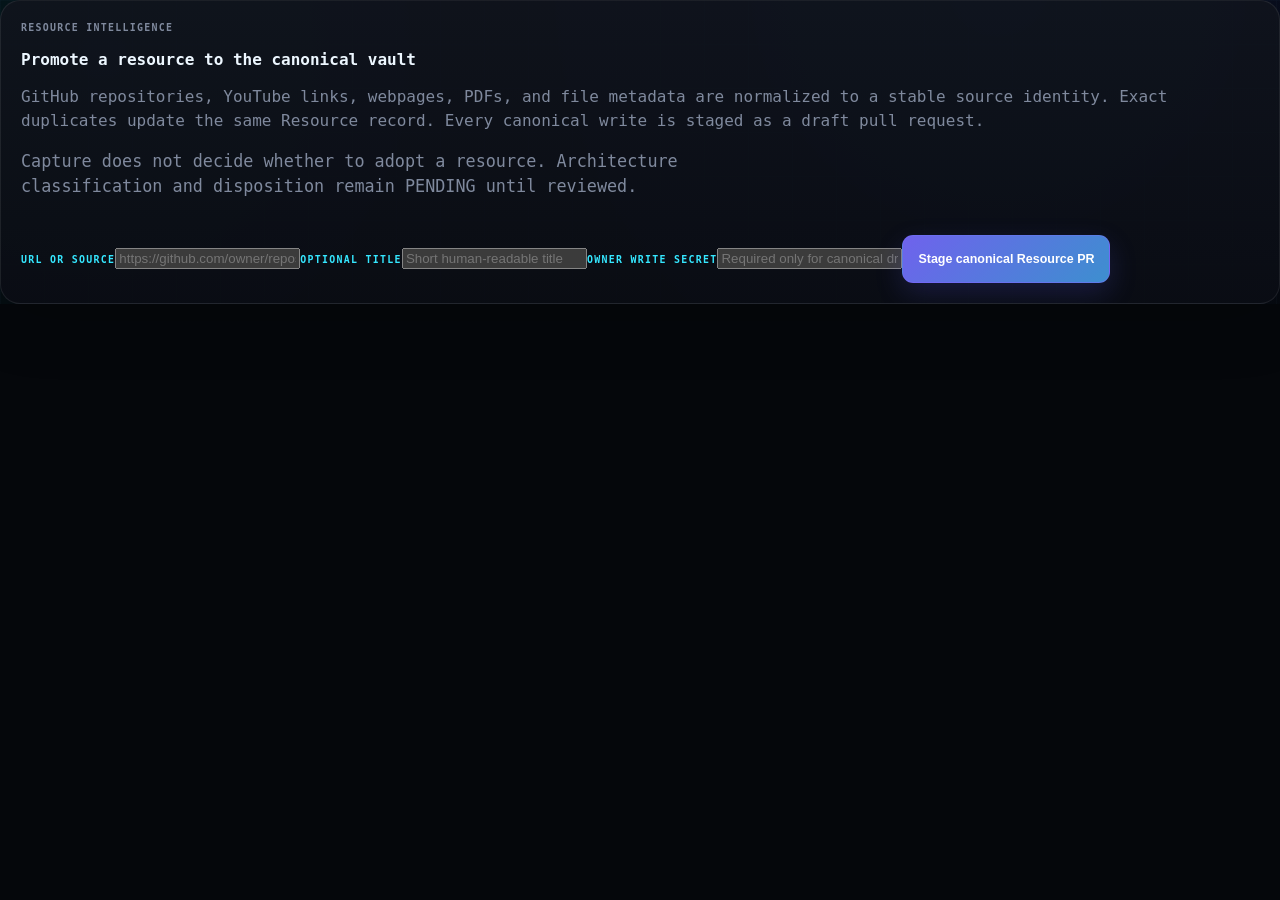
it: Resource intake panel › reports a reused open draft PR, source evidence status, and processor route
The width and height of the screenshot is (1280, 900).
Type "https://github.com/vercel-labs/knowledge-agent-template" into the field named "Resource URL or source" at x=208, y=259, box top-left (115, 248), bottom-right (300, 269)
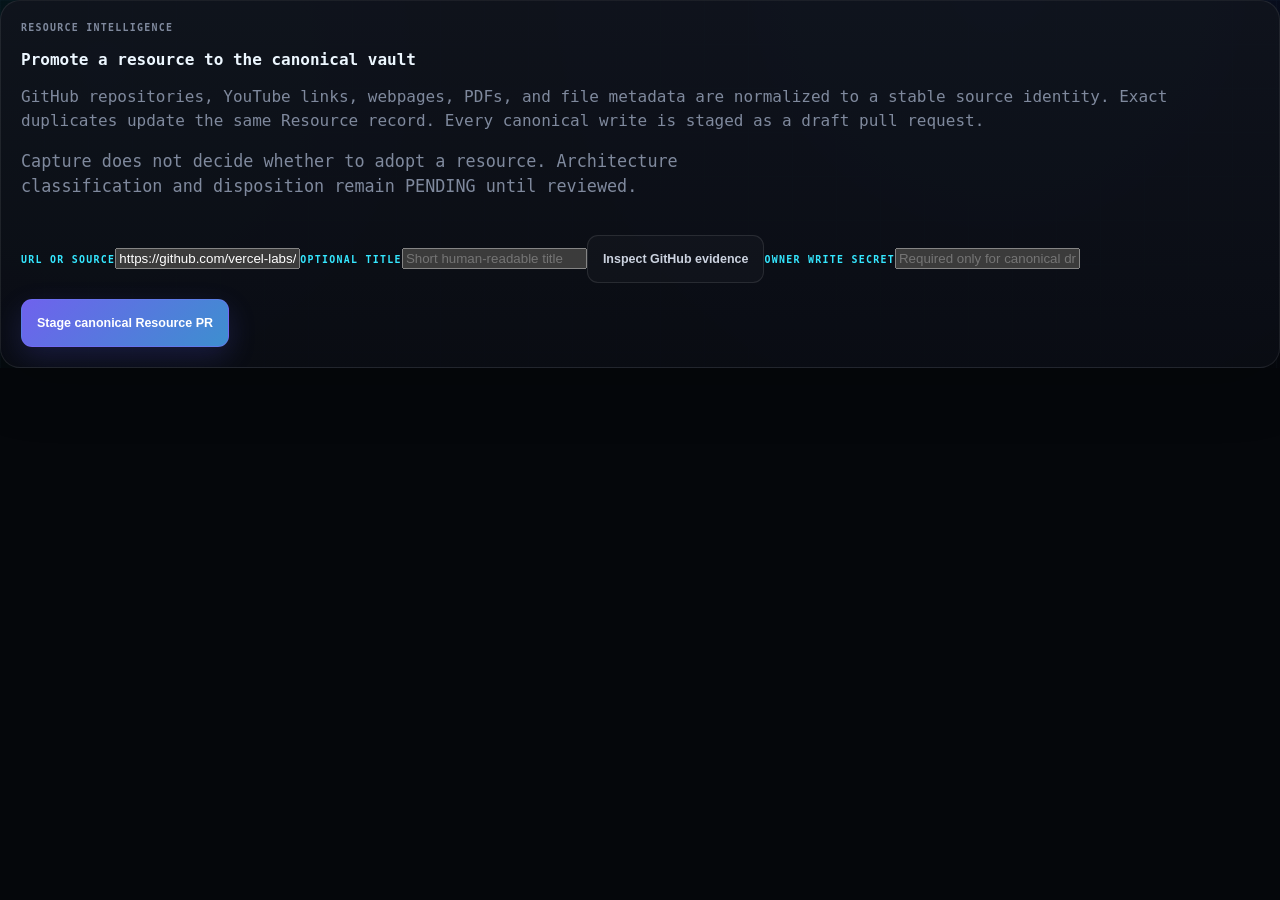
Type "owner-secret" into the password field labelled "Owner write secret" at x=988, y=259, box top-left (895, 248), bottom-right (1080, 269)
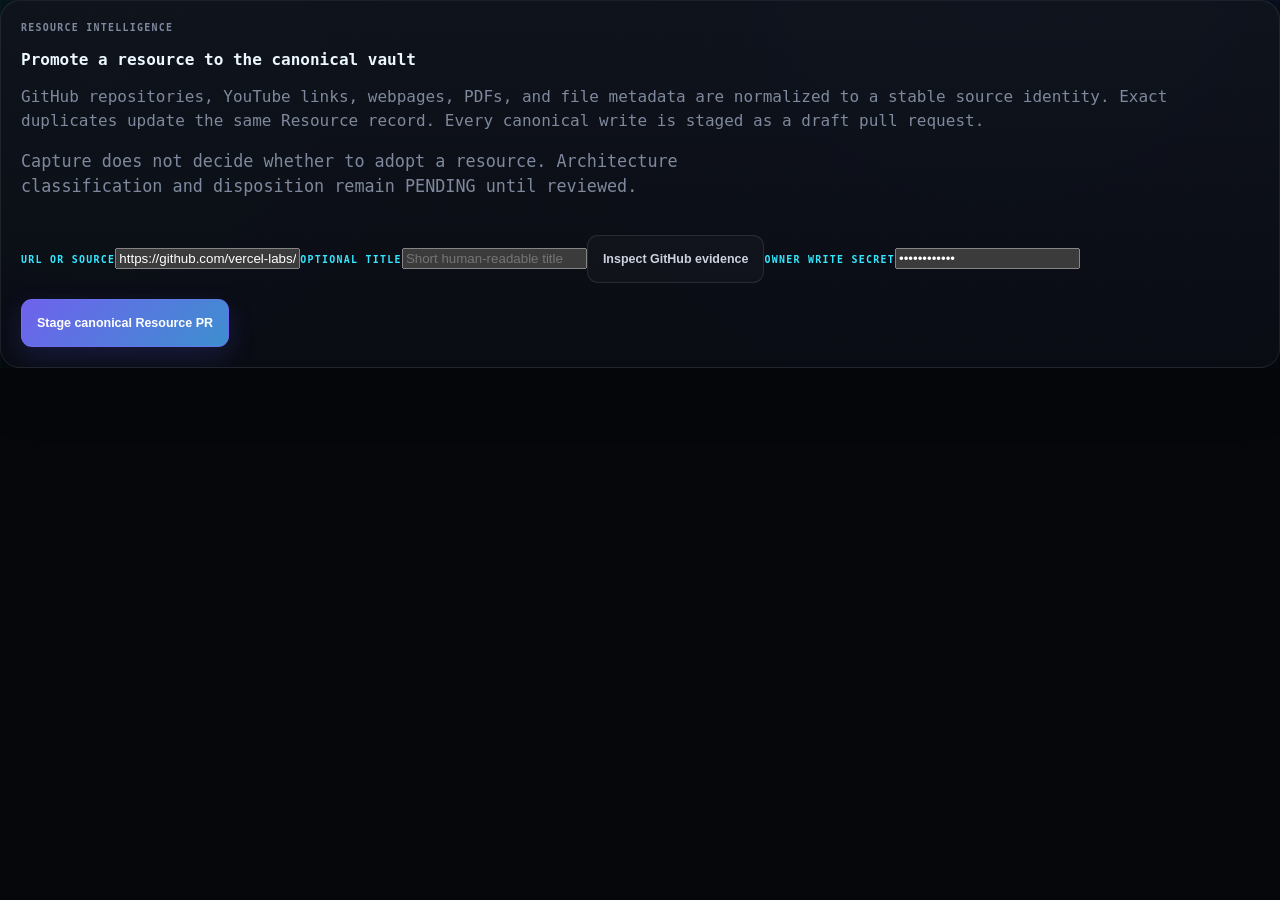
Click the button "Stage canonical Resource PR" at x=125, y=323, box top-left (21, 299), bottom-right (229, 347)
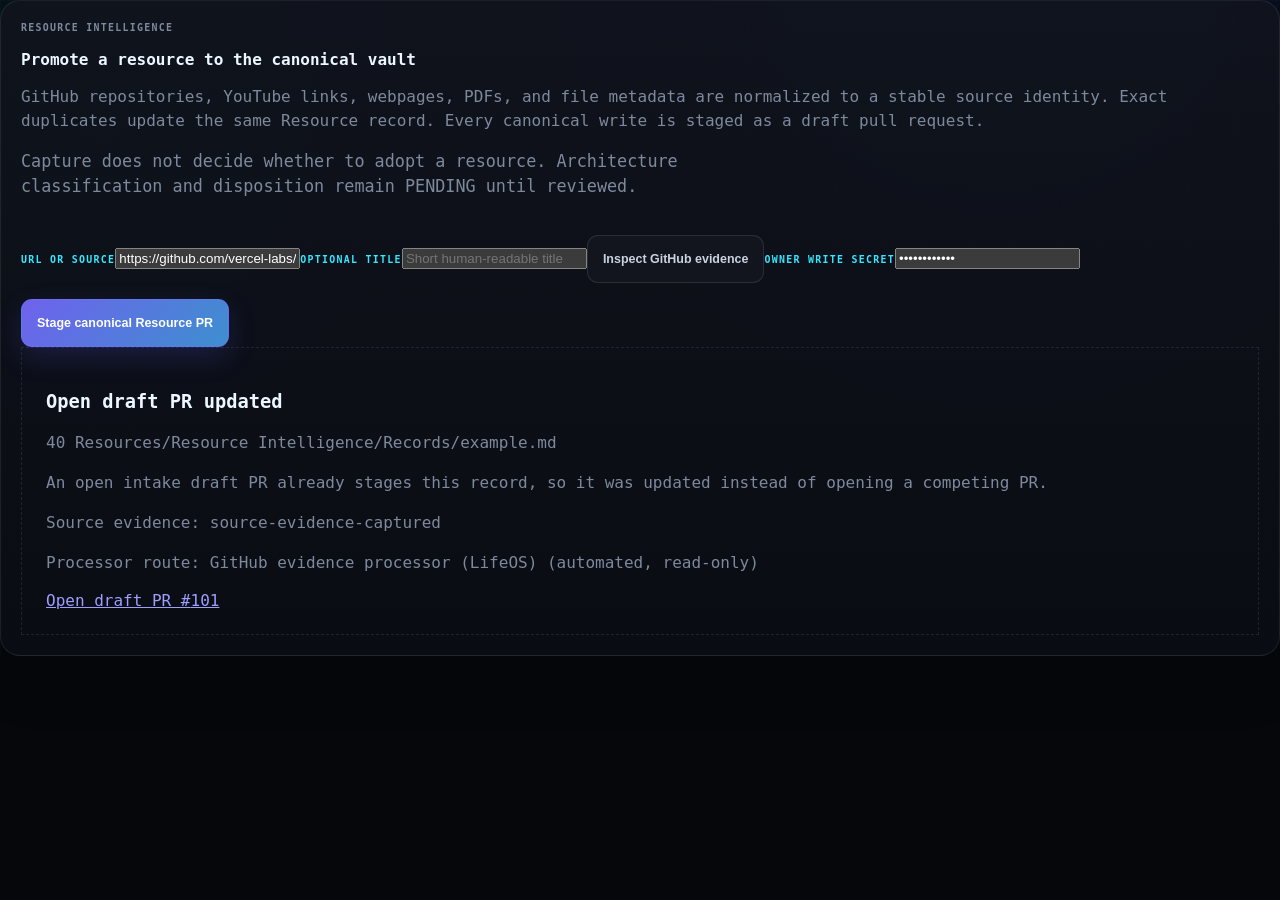
Expected: the heading "Open draft PR updated" is shown, top-left (46, 391), bottom-right (282, 412)
Expected: the text "instead of opening a competing PR" is shown, top-left (46, 473), bottom-right (1048, 492)
Expected: the text "Source evidence: source-evidence-captured" is shown, top-left (46, 513), bottom-right (441, 532)
